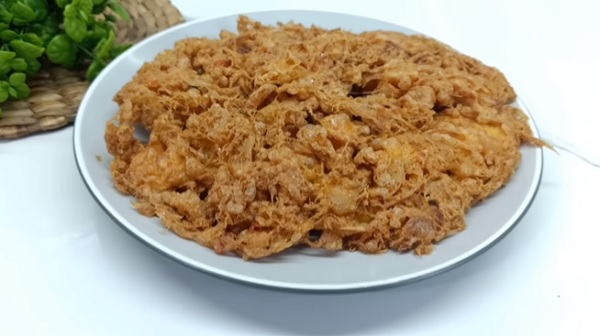Telur: (91, 26, 524, 256)
